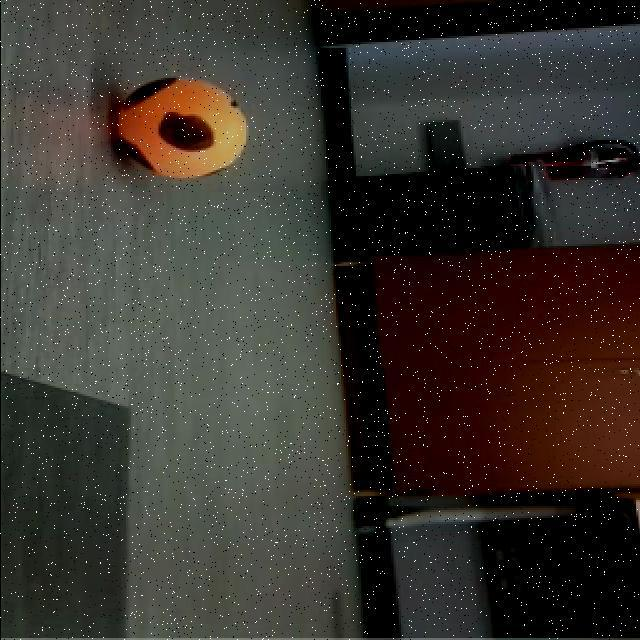ping-pong-ball: (105, 68, 254, 182)
